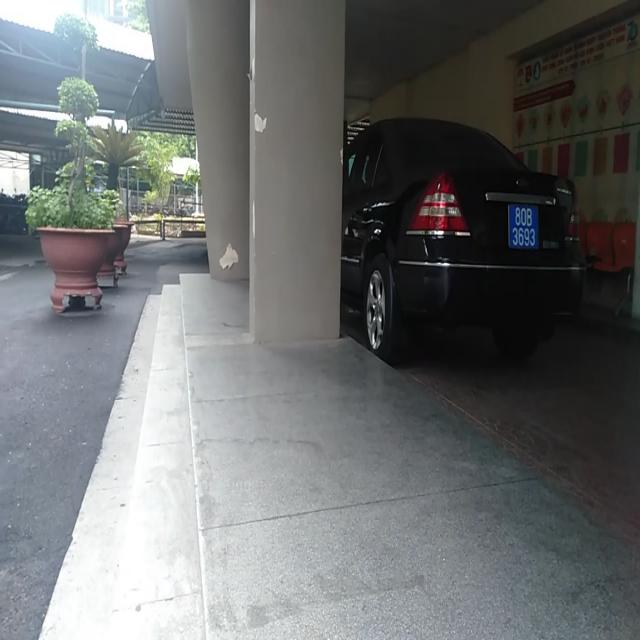bien_xanh: (505, 191, 540, 254)
